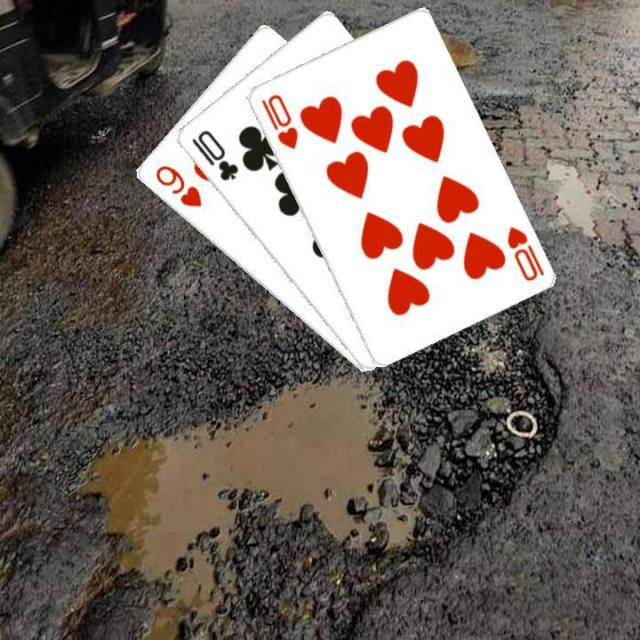10C: (187, 125, 240, 183)
10H: (256, 90, 300, 151), (502, 222, 546, 283)
9H: (150, 161, 204, 210)
